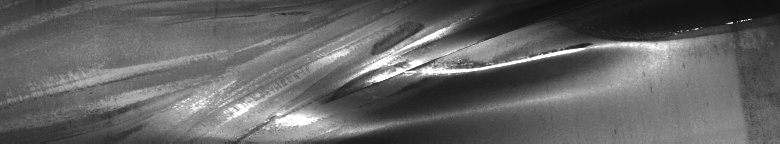ke: (7, 13, 752, 136)
